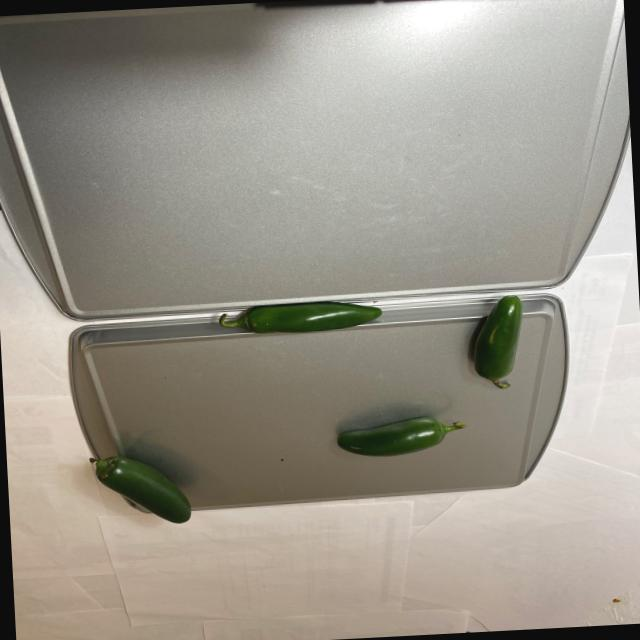chilli: (202, 278, 534, 464), (83, 439, 197, 530)
